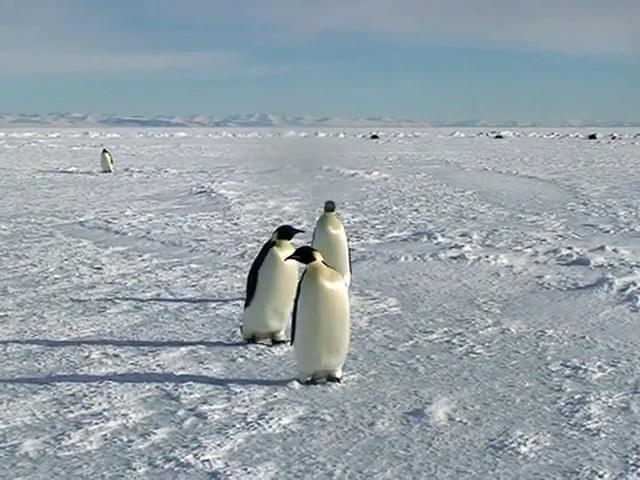animal: (312, 201, 352, 287)
